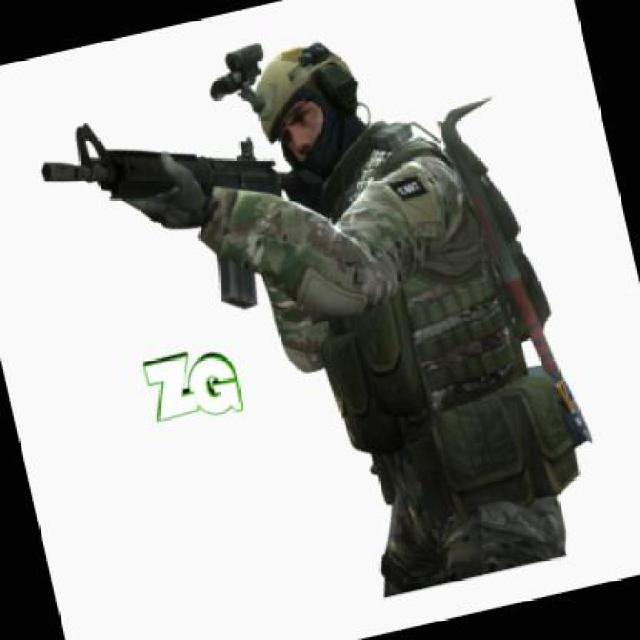MIL_Pax: (99, 0, 596, 634)
